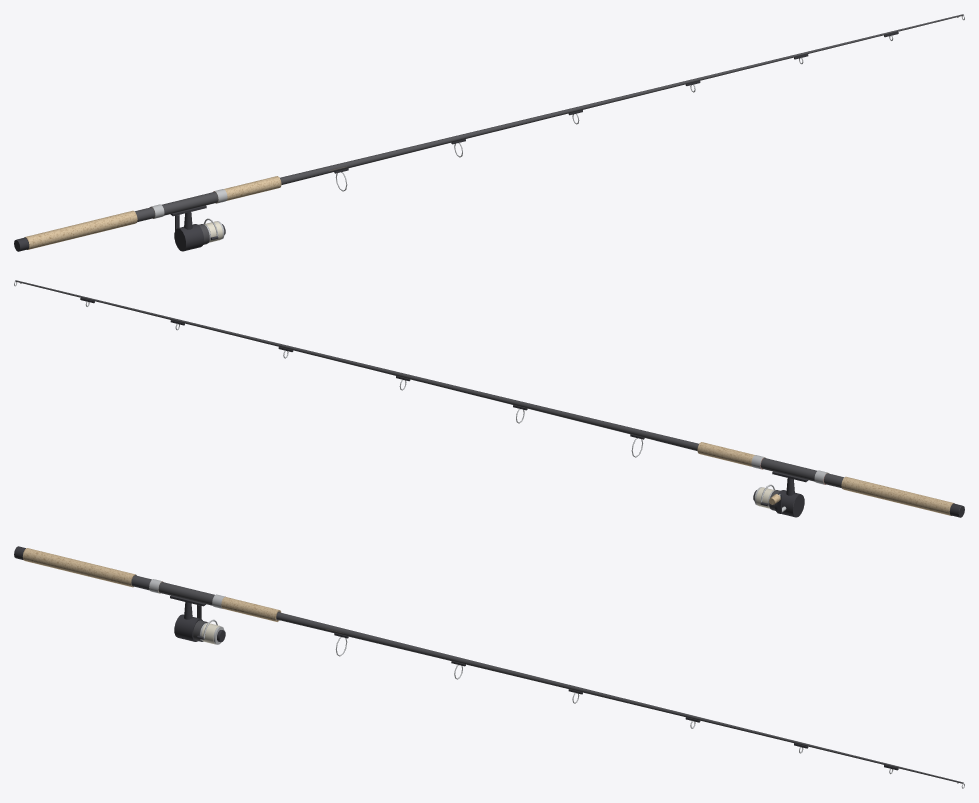
The model's file is rod_and_reel.fbx.
3 views of the same model, one above another, from view 1: azimuth 30°, elevation 25°; view 2: azimuth 150°, elevation 25°; view 3: azimuth 330°, elevation 25° (orthographic).
Parts seen in each view (by area): view 1: rod_and_reel; view 2: rod_and_reel; view 3: rod_and_reel.
Part boxes in pixels (<box>): rod_and_reel: <box>14,14,964,251</box>; rod_and_reel: <box>14,280,964,517</box>; rod_and_reel: <box>14,546,964,788</box>.
Size of the model in its own units: 210 by 10.74 by 10.06.
Materials: 1 (1 with a texture image).
